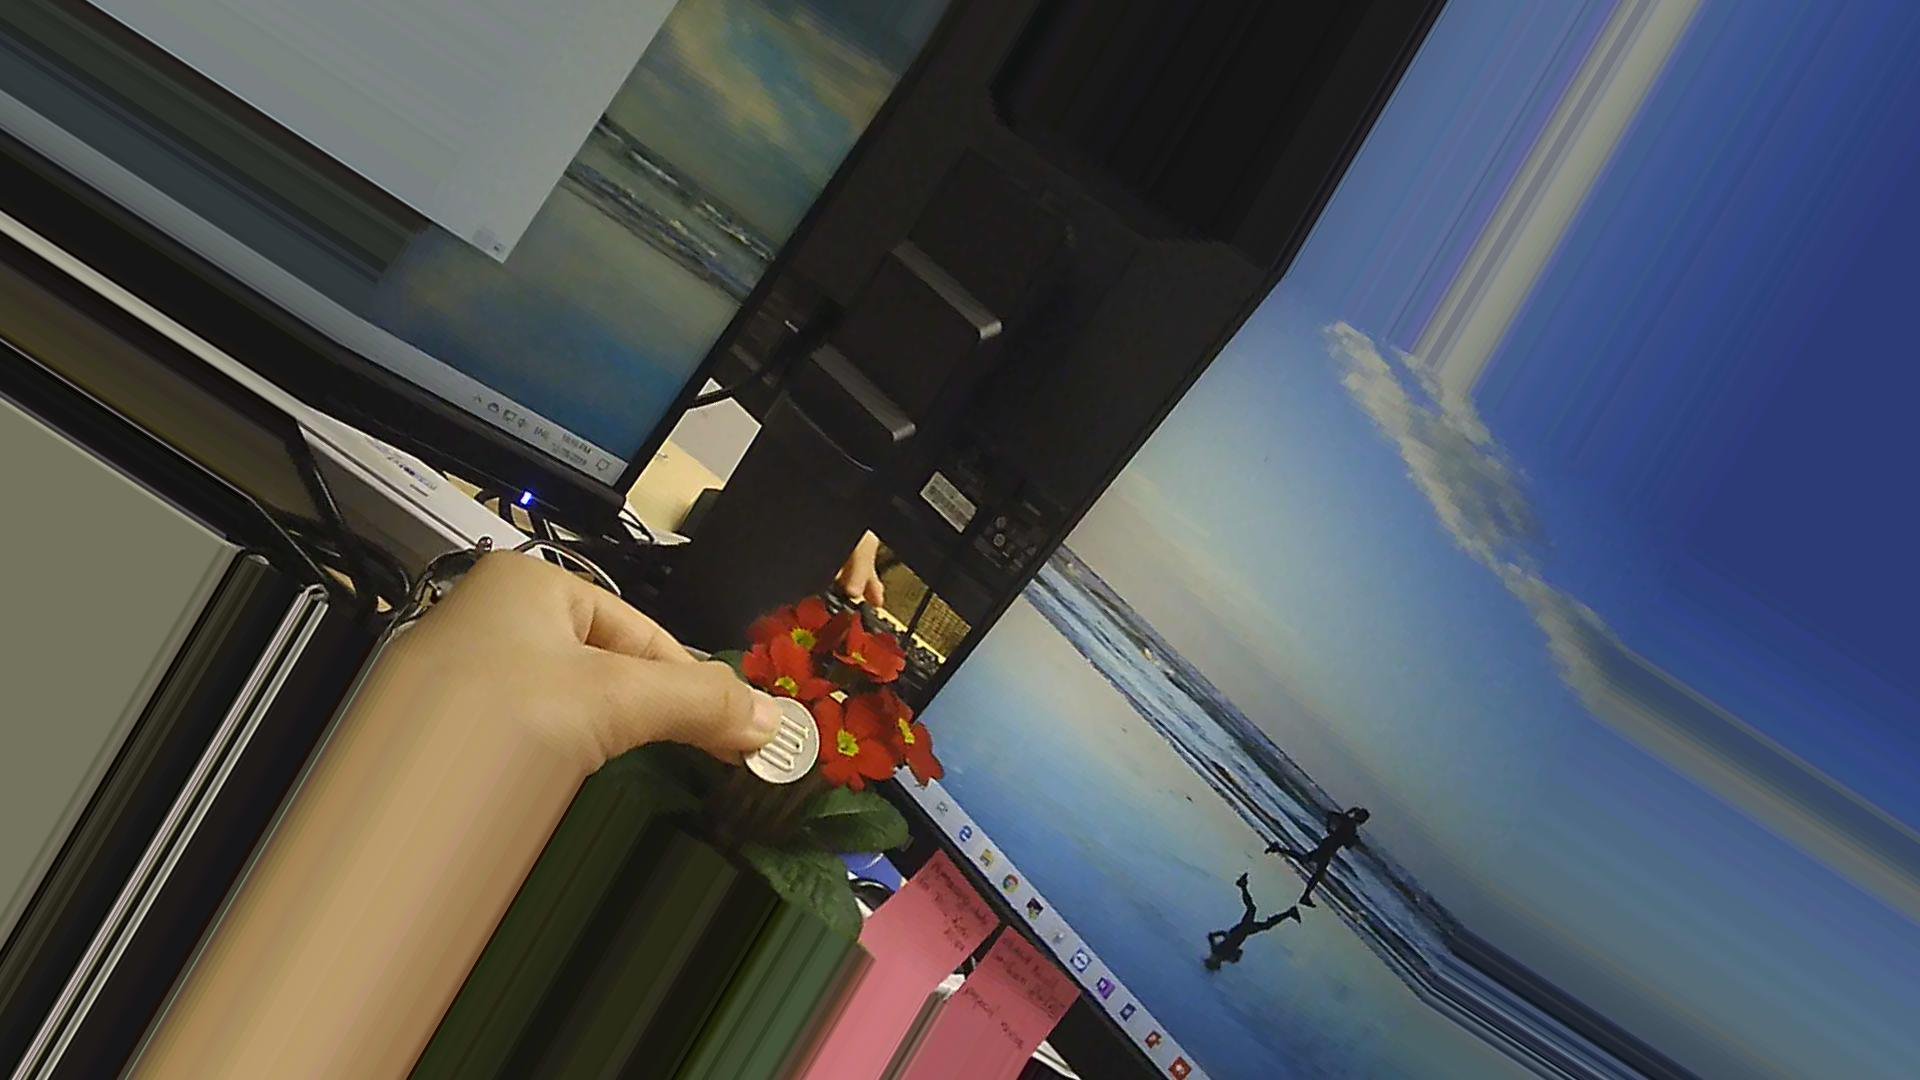100 Yen: (721, 688, 833, 789)
